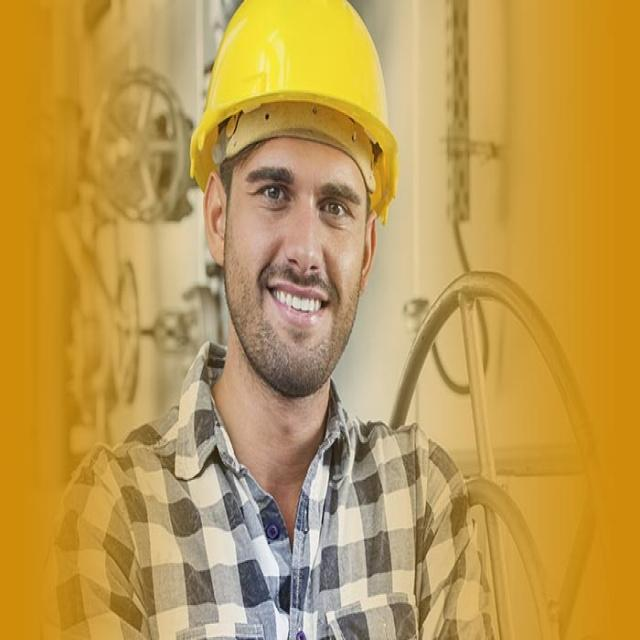helmet: (189, 2, 398, 530)
